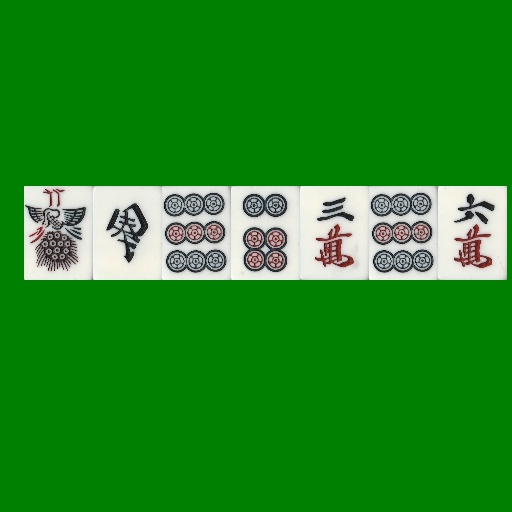1s: (24, 186, 93, 280)
3m: (300, 186, 369, 280)
6m: (438, 186, 507, 280)
6p: (231, 186, 300, 280)
9p: (162, 186, 231, 280), (369, 186, 438, 280)
south: (93, 186, 162, 280)
